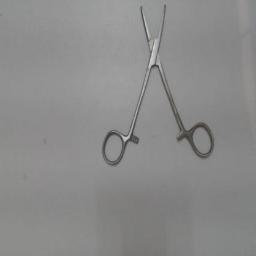Mayo Needle Holder: (98, 2, 216, 170)
